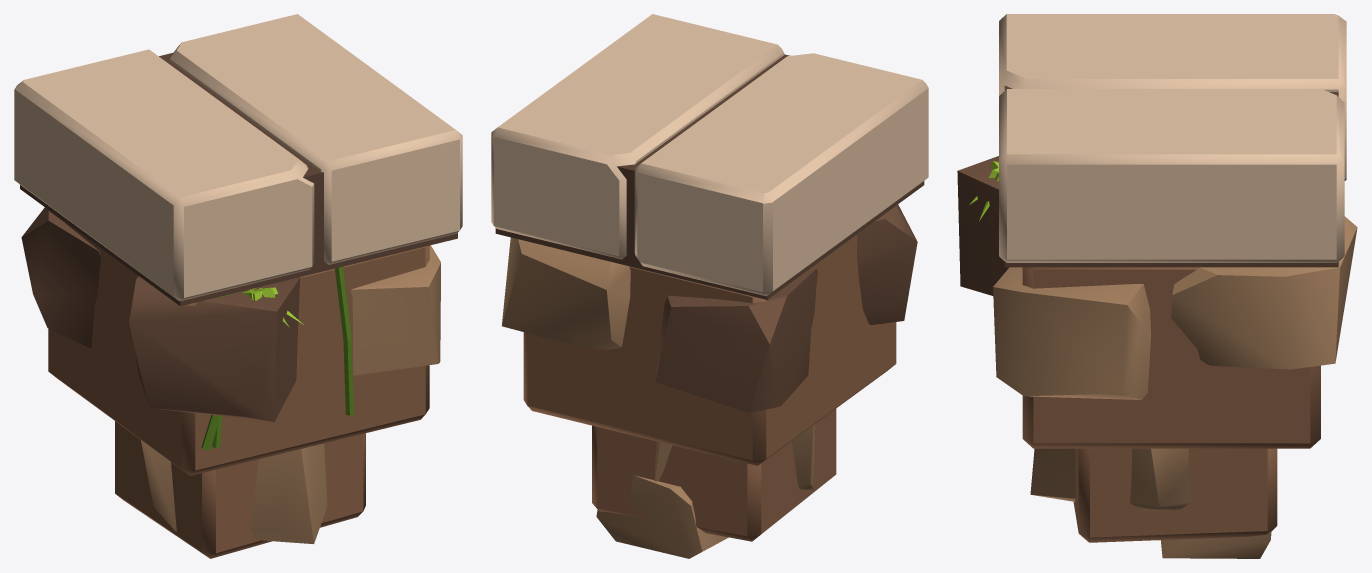
Rendered from cliff_skirt__upper.glb.
3 views of the same model, side by side, from view 1: azimuth 30°, elevation 25°; view 2: azimuth 150°, elevation 25°; view 3: azimuth 270°, elevation 25° (orthographic). The views are drawn at different scales.
Visible parts, largest first — view 1: cliff_skirt; view 2: cliff_skirt; view 3: cliff_skirt.
Part boxes in pixels (x1,y1,x2,y2): cliff_skirt: (14,14,462,558); cliff_skirt: (491,14,928,558); cliff_skirt: (957,14,1357,558).
Size of the model in its own units: 1.07 by 1.39 by 1.13.
